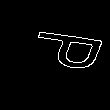P_E: (7, 31, 103, 79)
